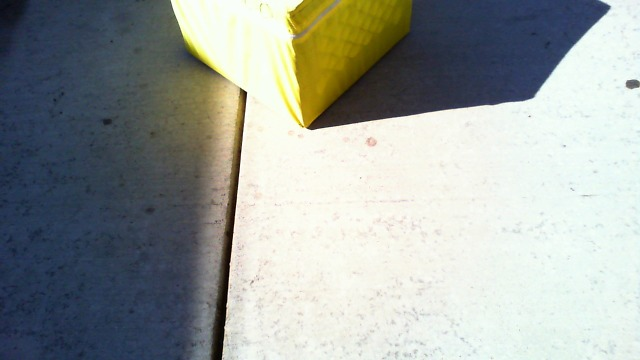cube: (166, 1, 416, 128)
